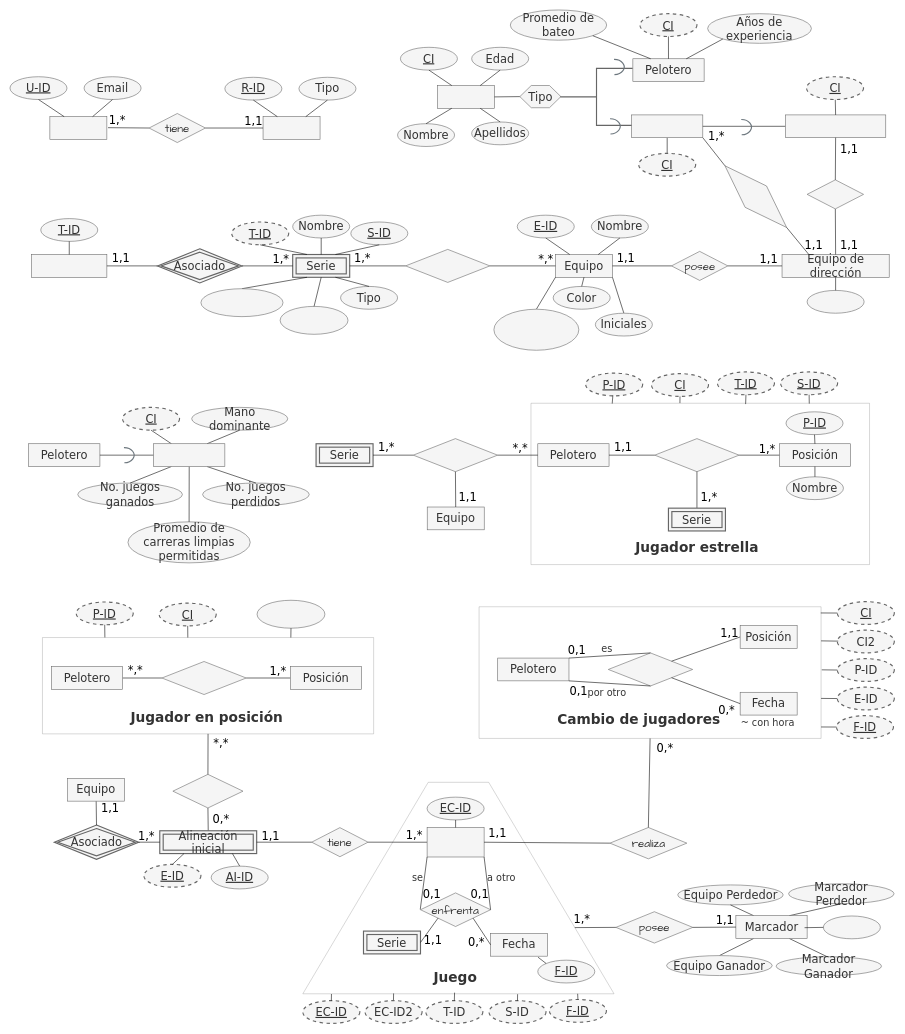
Image size: 905x1034. Some labels were removed from this diagram. The shapes that lost their labels are listed below. From the top down, each one's centre as x and y in pixels, then its label:
point 465,96: Persona
point 78,127: Usuario
point 291,127: Rol
point 667,126: Trabajador
point 835,126: Director técnico
point 755,196: trabajan
point 835,194: dirigido
point 69,265: Temporada
point 447,265: compiten
point 241,302: Fecha de inicio
point 314,320: Fecha de fin
point 835,301: EP-ID
point 536,329: Entidad representante
point 189,455: Lanzador
point 455,455: participa
point 696,455: seleccionado
point 290,614: Efectividad
point 203,678: juega
point 650,669: cambiado
point 207,791: conforma
point 455,842: Equipo en el campo
point 851,927: M-ID
